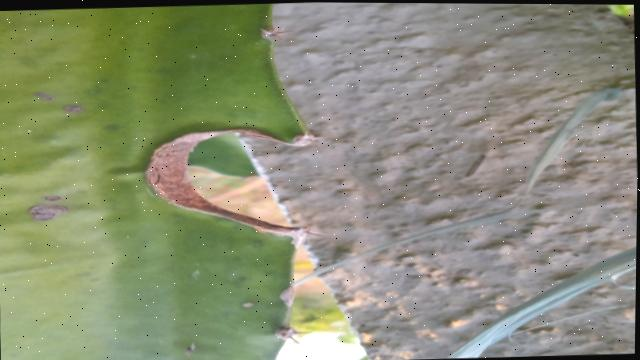stemcanker: (19, 190, 70, 223), (34, 88, 89, 118)
